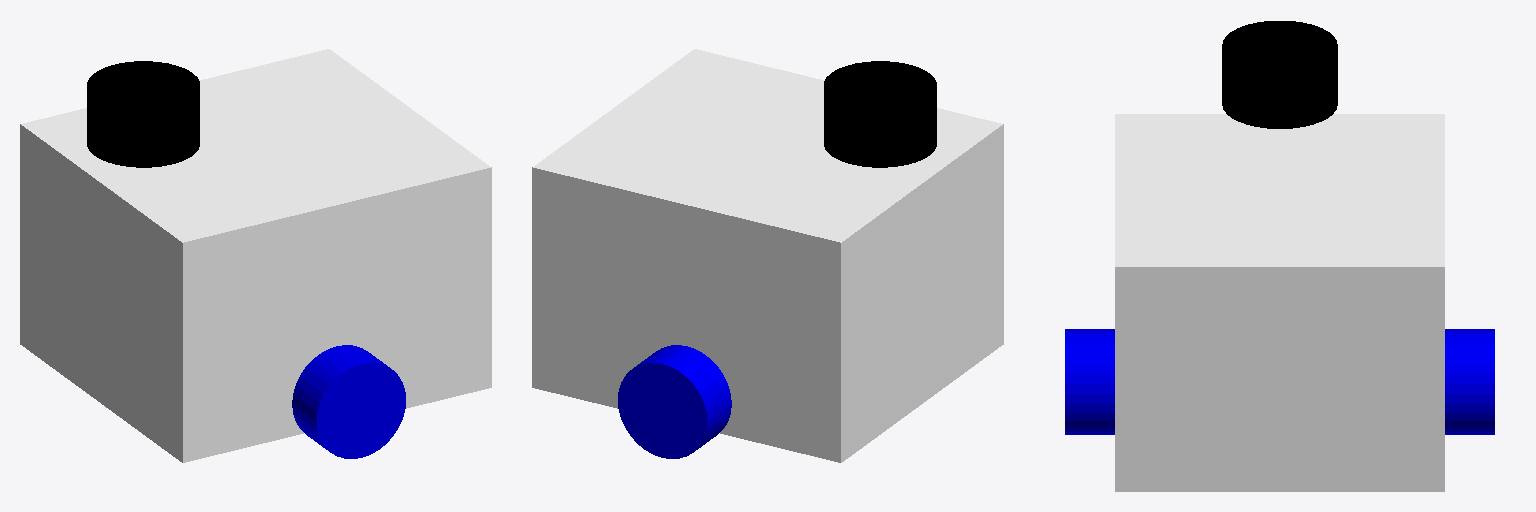
The robot description file, URDF, robot "aiebot":
<?xml version="1.0"?>
<robot name="aiebot">

<material name="blue">
    <color rgba="0 0 1 1"/>
  </material>
  <material name="black">
    <color rgba="0 0 0 1"/>
  </material>
  <material name="white">
    <color rgba="1 1 1 1"/>
  </material>

  <link name="base_link">
    <visual>
      <origin xyz="0 0 0.085" />
      <geometry>
        <box size ="0.22 0.2 0.15"/>
      </geometry>
      <material name="white"/>
    </visual>
  </link>


  <link name="right_wheel">
    <visual>
      <origin xyz="0 0 0" rpy="0 0 0"/>
      <material name="blue"/>
      <geometry>
        <cylinder length="0.03" radius="0.032"/>
      </geometry>
    </visual>
  </link>
  
  <joint name="base_to_right_wheel" type="fixed">
    <parent link="base_link"/>
    <child link="right_wheel"/>
    <origin rpy="-1.5708 0 0" xyz="0 -.1150 0.032"/>
    <axis rpy="0 0 0" xyz="0 1 0"/>
  </joint>

  <link name="left_wheel">
    <visual>
      <origin rpy="0 0 0" xyz="0 0 0"/>
      <material name="blue"/>
      <geometry>
        <cylinder length="0.03" radius="0.032"/>
      </geometry>
    </visual>
  </link>
  
  <joint name="base_to_left_wheel" type="fixed">
    <parent link="base_link"/>
    <child link="left_wheel"/>
    <origin rpy="1.5708 0 0" xyz="0 0.1150 0.032"/>
    <axis rpy="0 0 0" xyz="0 1 0"/>
  </joint>
 
  <link name="laser">
    <visual>
      <geometry>
        <cylinder length="0.04" radius="0.035"/>
      </geometry>
      <material name="black"/>
    </visual>
  </link>  
  
  <joint name="base_to_laser" type="fixed">
    <parent link="base_link"/>
    <child link="laser"/>
    <origin xyz="-0.08 0 0.2" rpy="0 0 0"/>
  </joint>
  
</robot>

--- Render facts (derived) ---
The picture shows the robot from 3 angles, left to right: view 1: azimuth 30°, elevation 25°; view 2: azimuth 150°, elevation 25°; view 3: azimuth 270°, elevation 25°; orthographic projection.
Robot: aiebot — 4 links, 3 joints (3 fixed); root link base_link; default pose: all joints at 0.
Visible links, largest first — view 1: base_link, laser, right_wheel; view 2: base_link, laser, left_wheel; view 3: base_link, laser, right_wheel, left_wheel.
Boxes of the visible links, x1,y1,x2,y2 form: base_link: (20,49,491,462); laser: (87,61,199,167); right_wheel: (292,345,405,458); base_link: (532,49,1003,462); laser: (824,61,936,167); left_wheel: (618,345,731,458); base_link: (1115,114,1444,491); laser: (1222,21,1337,128); right_wheel: (1065,329,1114,434); left_wheel: (1445,329,1494,434).
Bounding box of the posed robot: 0.225 × 0.26 × 0.22 m (x, y, z).
Geometry: primitives only (box / cylinder / sphere), no mesh files.